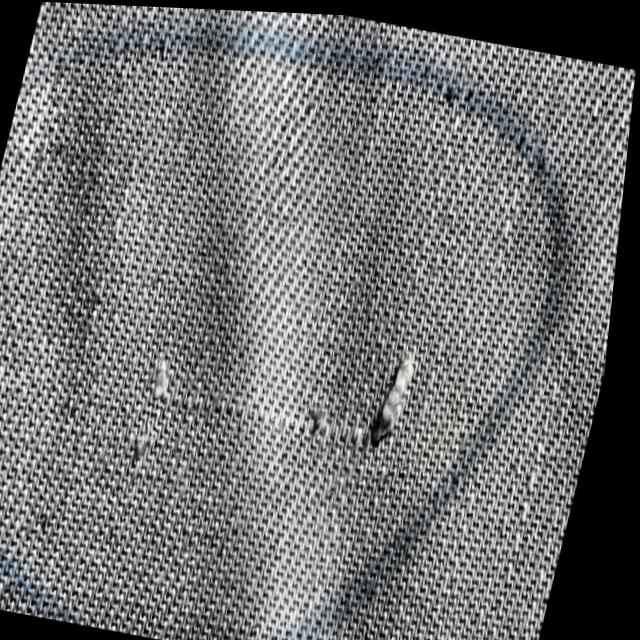Hole: (145, 346, 413, 475)
